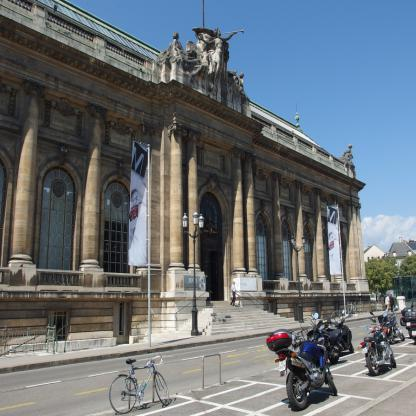motorcycle: (276, 315, 338, 410), (368, 322, 400, 382)
